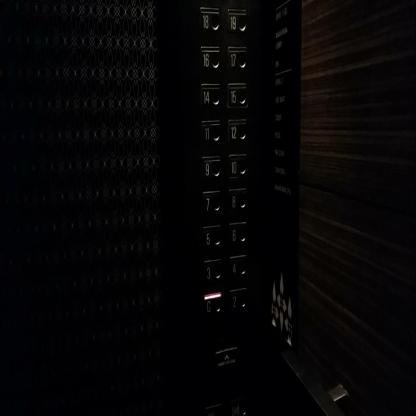10: (227, 153, 248, 180)
11: (201, 121, 222, 148)
12: (227, 118, 248, 146)
14: (200, 81, 221, 109)
15: (227, 82, 248, 109)
16: (199, 45, 221, 73)
17: (227, 44, 247, 74)
18: (199, 6, 220, 35)
19: (227, 7, 247, 36)
2: (228, 286, 249, 314)
3: (202, 257, 223, 287)
4: (229, 254, 249, 282)
5: (201, 224, 223, 252)
6: (228, 220, 249, 250)
7: (200, 190, 222, 218)
8: (228, 186, 248, 214)
9: (200, 157, 221, 182)
G: (204, 292, 222, 318)
